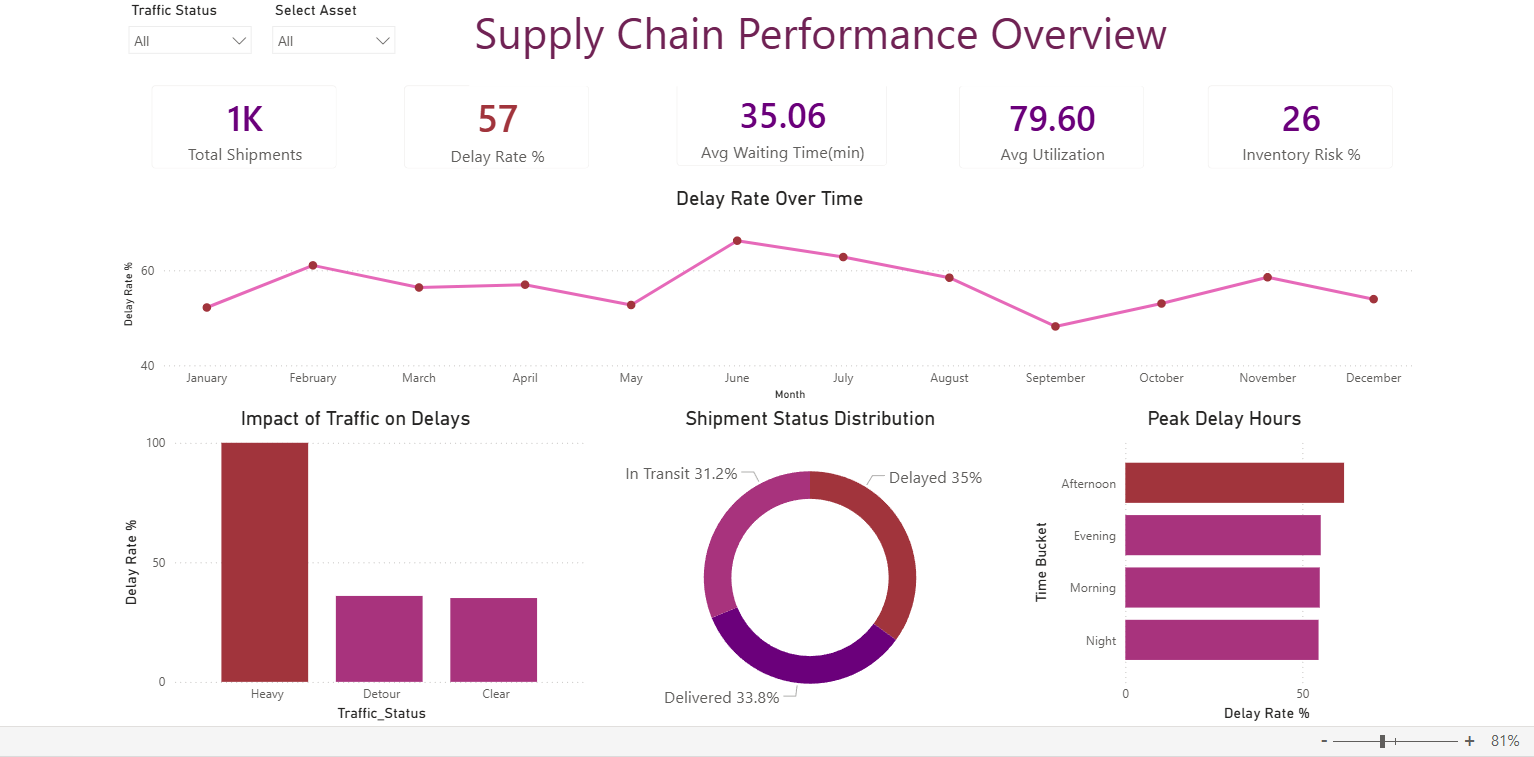

The page's visual inventory and layout, read from the dashboard file:
{"tool":"powerbi","page":{"name":"Overview","canvas":[1280,720],"ordinal":0},"visuals":[{"type":"cardVisual","fields":{"Data":["Key Measures.Total Shipments"]},"box":[16.5,74.1,216.8,116.6],"z":0},{"type":"cardVisual","fields":{"Data":["Key Measures.Delay Rate %"]},"box":[263.5,74.1,216.8,116.6],"z":1000},{"type":"cardVisual","fields":{"Data":["Key Measures.Avg Waiting Time"]},"box":[531,71.4,241.5,116.6],"z":1001},{"type":"cardVisual","fields":{"Data":["Key Measures.Avg Utilization"]},"box":[809.6,74.1,216.8,116.6],"z":1002},{"type":"cardVisual","fields":{"Data":["Key Measures.Inventory Risk %"]},"box":[1053.9,74.1,216.8,116.6],"z":1003},{"type":"lineChart","title":"Delay Rate Over Time","fields":{"Y":["Key Measures.Delay Rate %"],"Category":["supply_chain_cleaned.Timestamp.Variation.Date Hierarchy.Month"]},"box":[0,190.7,1280.3,215.4],"z":1004},{"type":"clusteredColumnChart","title":"Impact of Traffic on Delays","fields":{"Category":["supply_chain_cleaned.Traffic_Status"],"Y":["Key Measures.Delay Rate %"]},"box":[0,406.2,466.6,314.2],"z":1005},{"type":"donutChart","title":"Shipment Status Distribution","fields":{"Category":["supply_chain_cleaned.Shipment_Status"],"Y":["Key Measures.Total Shipments"]},"box":[466.6,406.2,426.8,314.2],"z":1006},{"type":"barChart","title":"Peak Delay Hours","fields":{"Y":["Key Measures.Delay Rate %"],"Category":["supply_chain_cleaned.Time Bucket"]},"box":[894,406,386,314],"z":1007},{"type":"slicer","fields":{"Values":["supply_chain_cleaned.Traffic_Status"]},"box":[0,4.1,141.3,67.2],"z":1008},{"type":"slicer","fields":{"Values":["supply_chain_cleaned.Asset_ID"]},"box":[141.3,4.1,141.3,67.2],"z":1009},{"type":"textbox","box":[344.4,4.1,709.4,87.8],"z":1010}]}

Visuals, with their boxes on the page's 1280x720 design canvas (x1, y1, x2, y2). These are canvas units, not pixel positions in the 1534x757 screenshot, which may show the page scaled, cropped or inside an application window:
cardVisual - Key Measures.Total Shipments: (16, 74, 233, 191)
cardVisual - Key Measures.Delay Rate %: (264, 74, 480, 191)
cardVisual - Key Measures.Avg Waiting Time: (531, 71, 772, 188)
cardVisual - Key Measures.Avg Utilization: (810, 74, 1026, 191)
cardVisual - Key Measures.Inventory Risk %: (1054, 74, 1271, 191)
"Delay Rate Over Time" lineChart: (0, 191, 1280, 406)
"Impact of Traffic on Delays" clusteredColumnChart: (0, 406, 467, 720)
"Shipment Status Distribution" donutChart: (467, 406, 893, 720)
"Peak Delay Hours" barChart: (894, 406, 1280, 720)
slicer - supply_chain_cleaned.Traffic_Status: (0, 4, 141, 71)
slicer - supply_chain_cleaned.Asset_ID: (141, 4, 283, 71)
textbox: (344, 4, 1054, 92)
